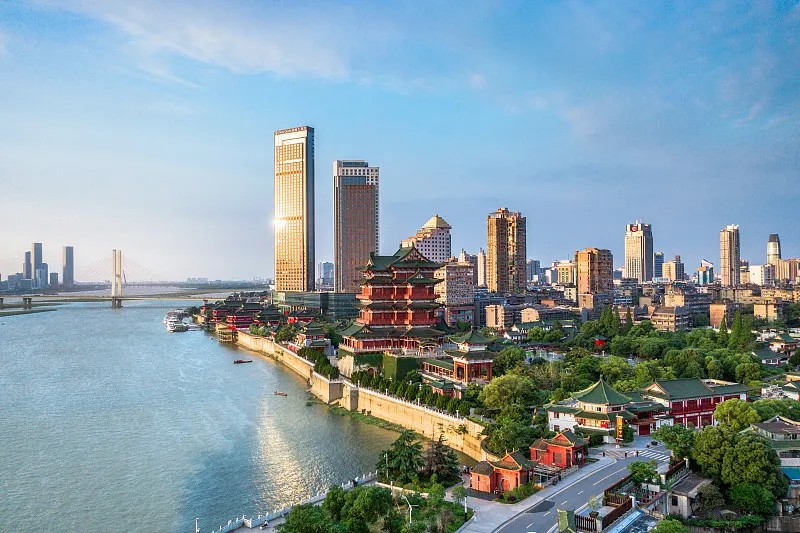Teng: (334, 242, 447, 357)
